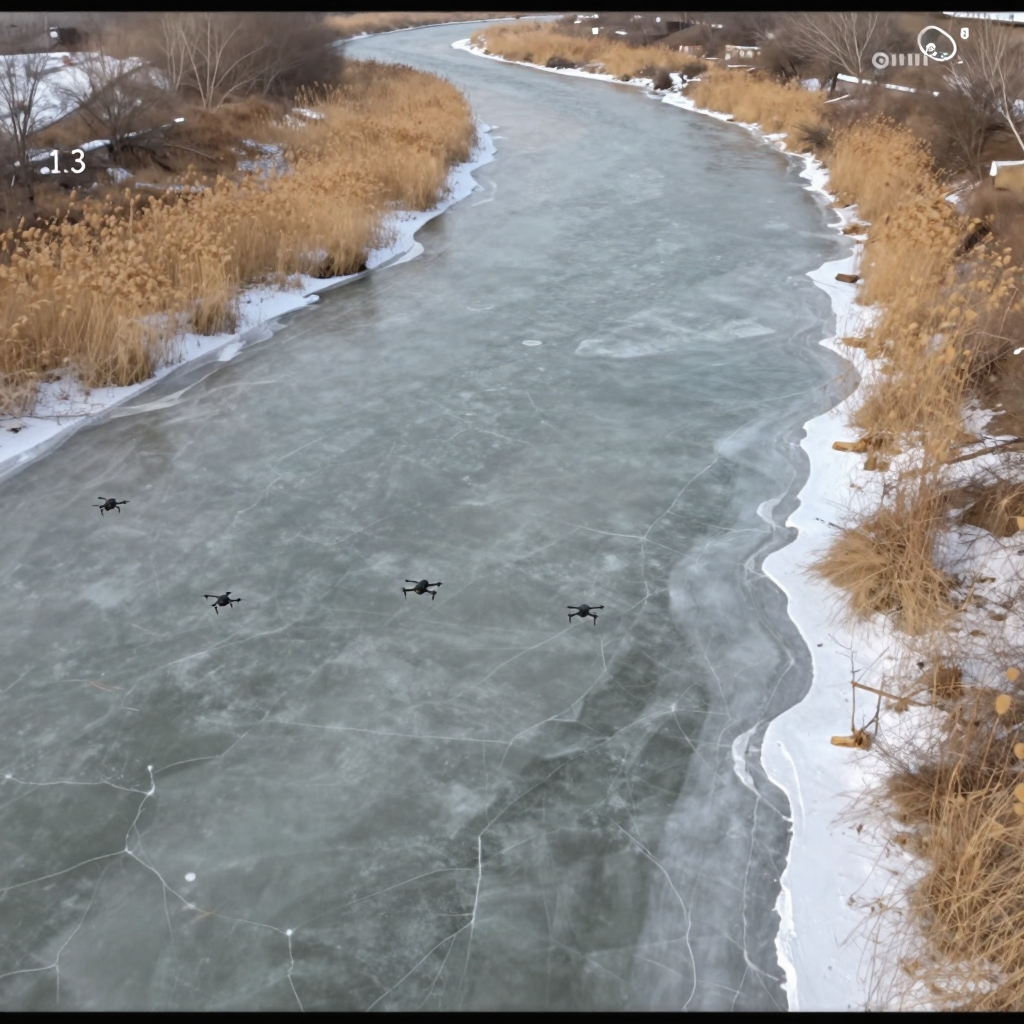drone: (399, 579, 443, 600), (203, 591, 242, 614), (567, 604, 604, 626), (91, 497, 130, 517)
